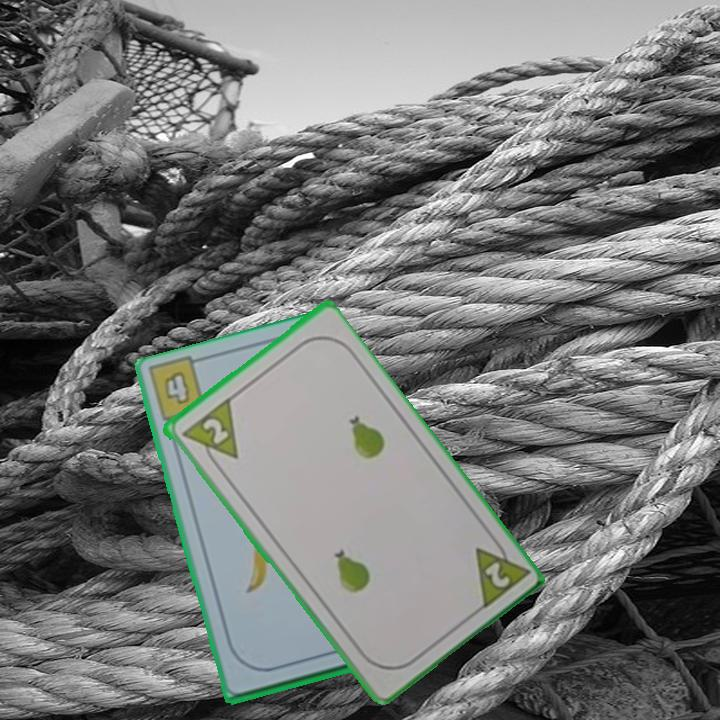2p: (177, 395, 241, 474), (470, 531, 530, 614)
4b: (160, 366, 193, 407)
